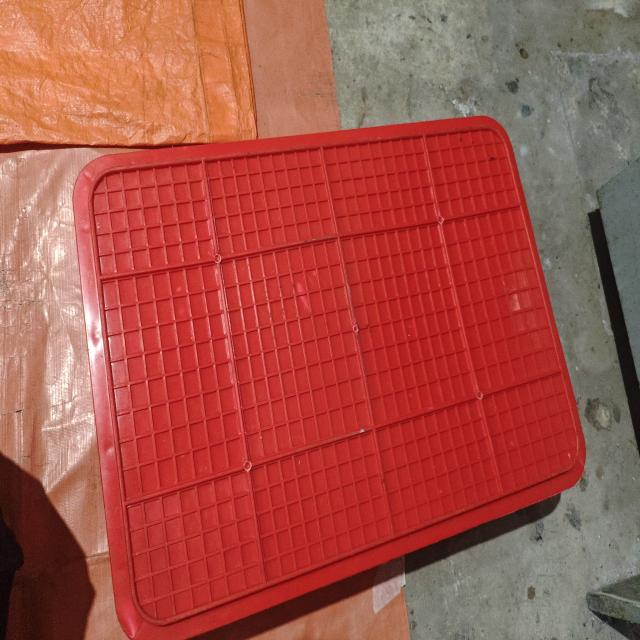red plastic box: (72, 115, 587, 640)
